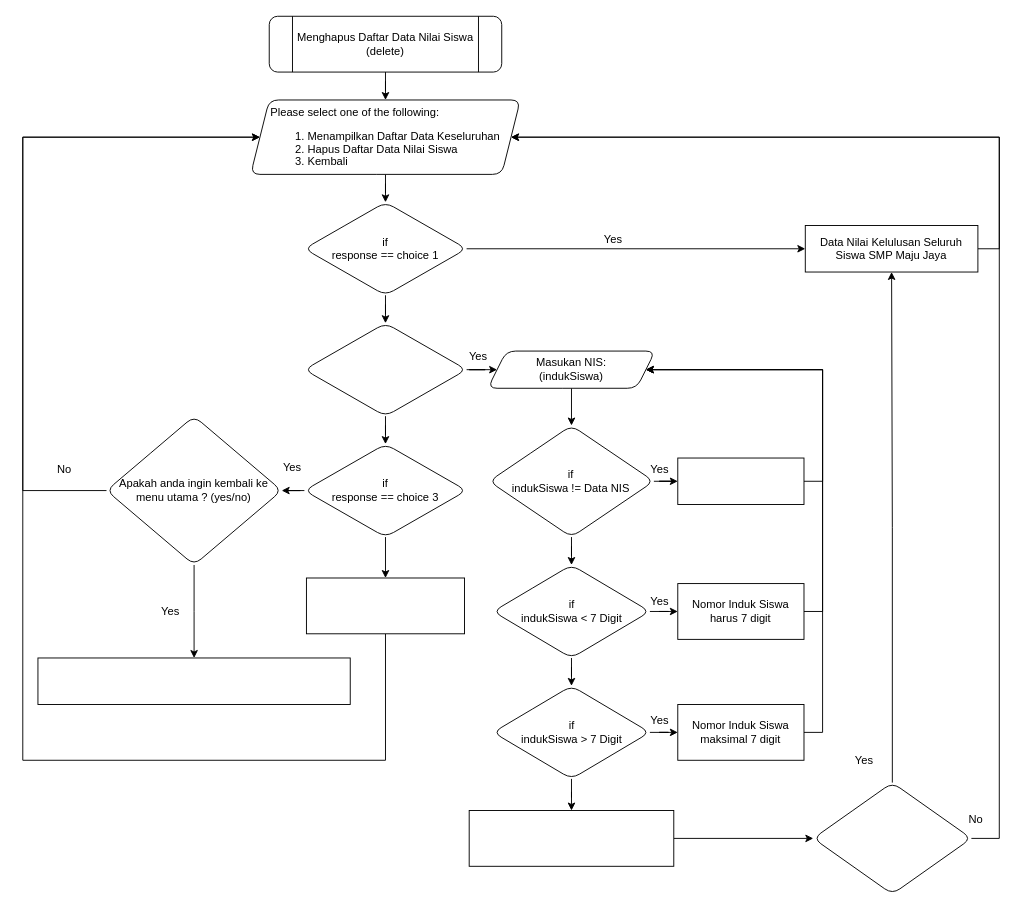
This 1023x910 diagram has some shape labels left out. Here are the shapes that lost their labels. From the top down, the box of each, then its label:
(303, 322, 467, 416): if response == choice 2
(677, 457, 804, 505): Nomor Induk Siswa Tidak Tersedia
(306, 577, 465, 634): "response" is not valid choice
(37, 657, 350, 704): Report Data Kelulusan di SMP Maju Jaya (main)
(468, 810, 674, 866): Menampilkan Data nilai siswa yang akan di hapus
(812, 782, 971, 894): Apakah anda akan tetap melanjutkan ? (yes/no)
